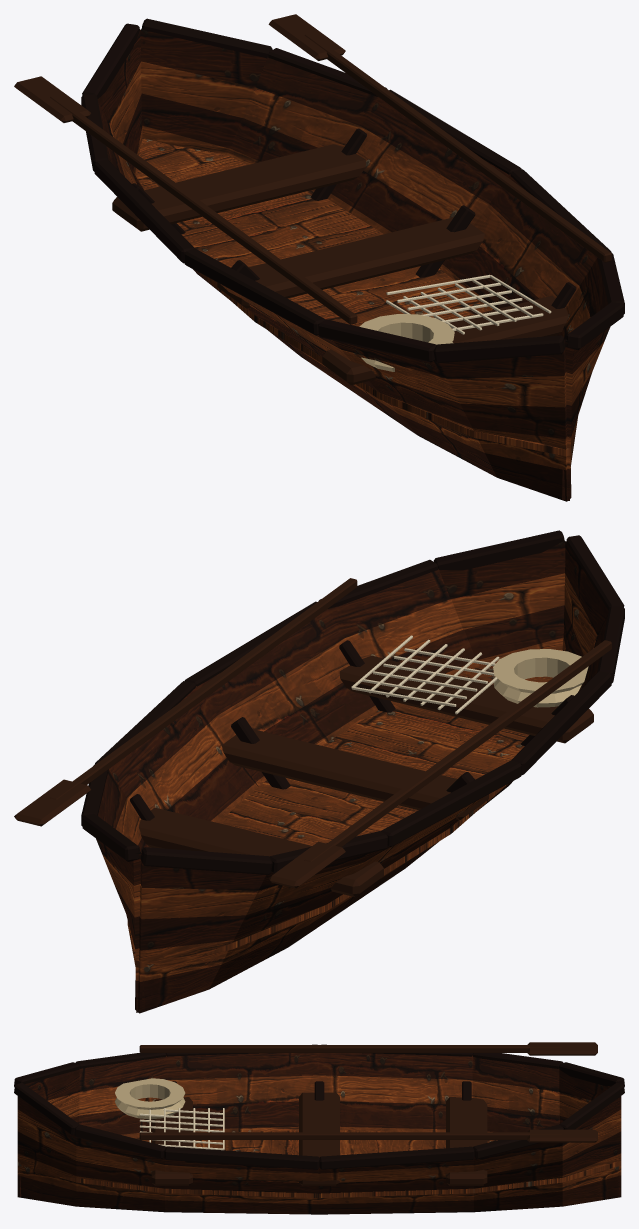
The model's file is fishing-boat.glb.
The picture shows the model from 3 angles, top to bottom: view 1: azimuth 30°, elevation 25°; view 2: azimuth 150°, elevation 25°; view 3: azimuth 270°, elevation 25°; orthographic projection. The views are drawn at different scales.
Parts seen in each view (by area): view 1: fishing-boat|3dtextures-aged-wood, fishing-boat|3dtextures-oiled-wood, fishing-boat|woven-linen, fishing-boat|twisted-flax-rope; view 2: fishing-boat|3dtextures-aged-wood, fishing-boat|3dtextures-oiled-wood, fishing-boat|woven-linen, fishing-boat|twisted-flax-rope; view 3: fishing-boat|3dtextures-oiled-wood, fishing-boat|3dtextures-aged-wood, fishing-boat|twisted-flax-rope, fishing-boat|woven-linen.
Part boxes in pixels (left/top/right/bottom): fishing-boat|3dtextures-aged-wood: left=14, top=14, right=611, bottom=470; fishing-boat|3dtextures-oiled-wood: left=81, top=18, right=624, bottom=501; fishing-boat|woven-linen: left=386, top=274, right=551, bottom=334; fishing-boat|twisted-flax-rope: left=359, top=314, right=454, bottom=371; fishing-boat|3dtextures-aged-wood: left=14, top=573, right=611, bottom=981; fishing-boat|3dtextures-oiled-wood: left=81, top=530, right=624, bottom=1013; fishing-boat|woven-linen: left=351, top=635, right=499, bottom=714; fishing-boat|twisted-flax-rope: left=493, top=649, right=588, bottom=707; fishing-boat|3dtextures-oiled-wood: left=14, top=1044, right=624, bottom=1214; fishing-boat|3dtextures-aged-wood: left=17, top=1042, right=621, bottom=1204; fishing-boat|twisted-flax-rope: left=115, top=1078, right=185, bottom=1119; fishing-boat|woven-linen: left=139, top=1108, right=224, bottom=1150.
Bounding box in the file's own units: 1.87 × 0.8652 × 4.15.
4 materials, 2 textured.
